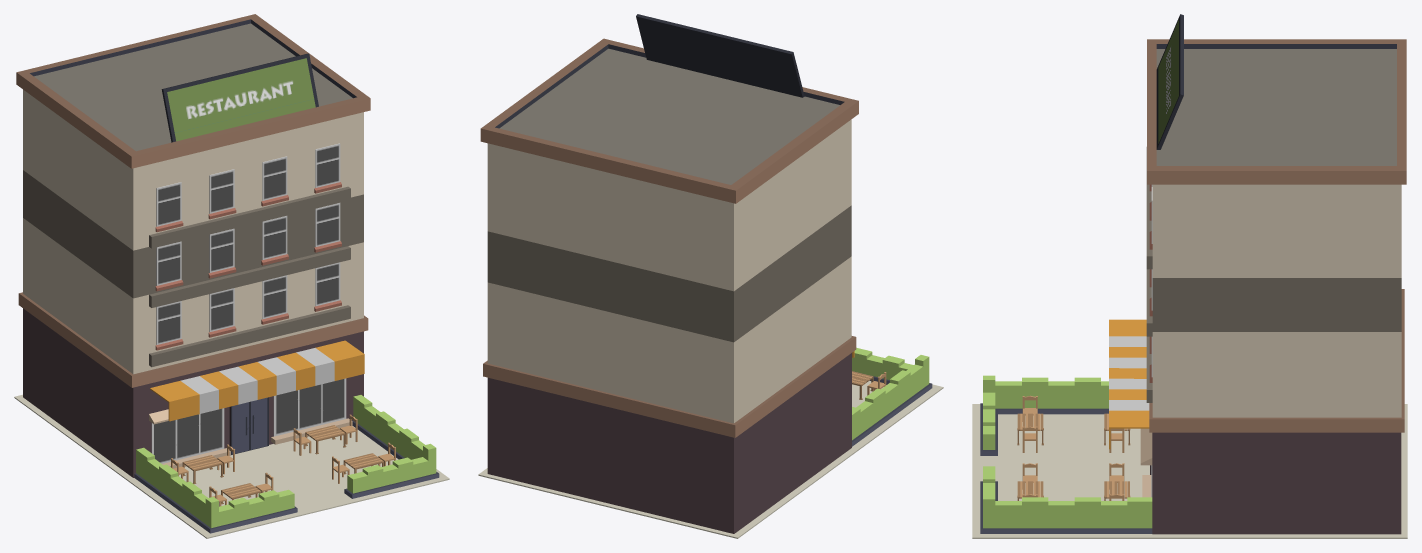
File: bigRestaıramt_color03.fbx
The picture shows the model from 3 angles, left to right: view 1: azimuth 30°, elevation 25°; view 2: azimuth 150°, elevation 25°; view 3: azimuth 270°, elevation 25°; orthographic projection. The views are drawn at different scales.
Visible parts, largest first — view 1: Plane.076, Cube.049; view 2: Plane.076; view 3: Plane.076.
Part boxes in pixels (x1,y1,x2,y2): Plane.076: [14, 14, 449, 538]; Cube.049: [293, 414, 357, 455]; Plane.076: [478, 14, 943, 538]; Plane.076: [972, 14, 1407, 538].
Bounding box in the file's own units: 1186 × 1728 × 1630.
